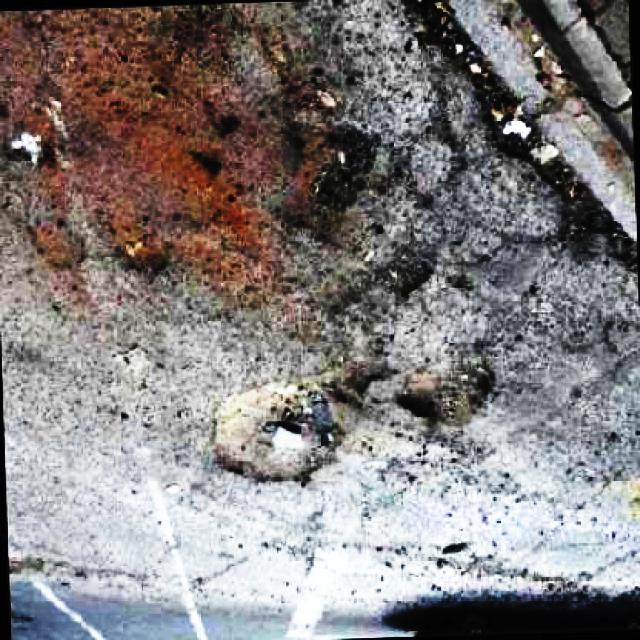pothole: (401, 0, 640, 274), (208, 380, 346, 491), (394, 352, 506, 431), (306, 123, 382, 220)
